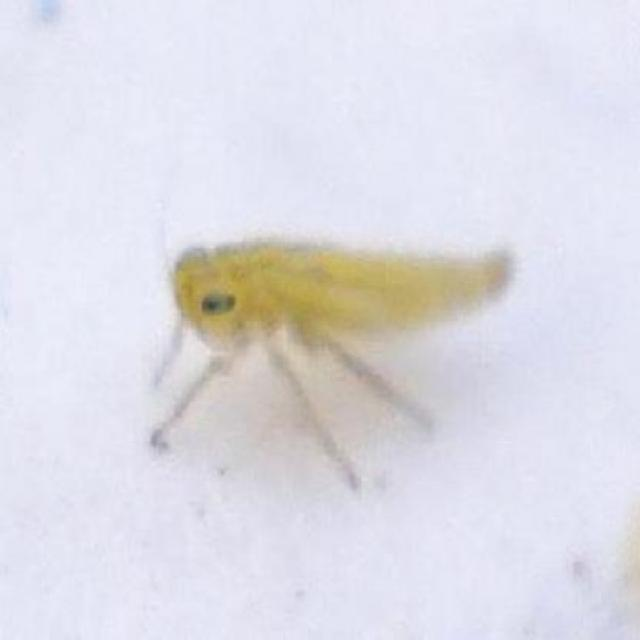green-leafhopper: (158, 225, 518, 403)
